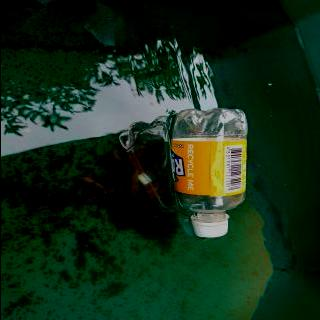bottle: (167, 108, 248, 238)
